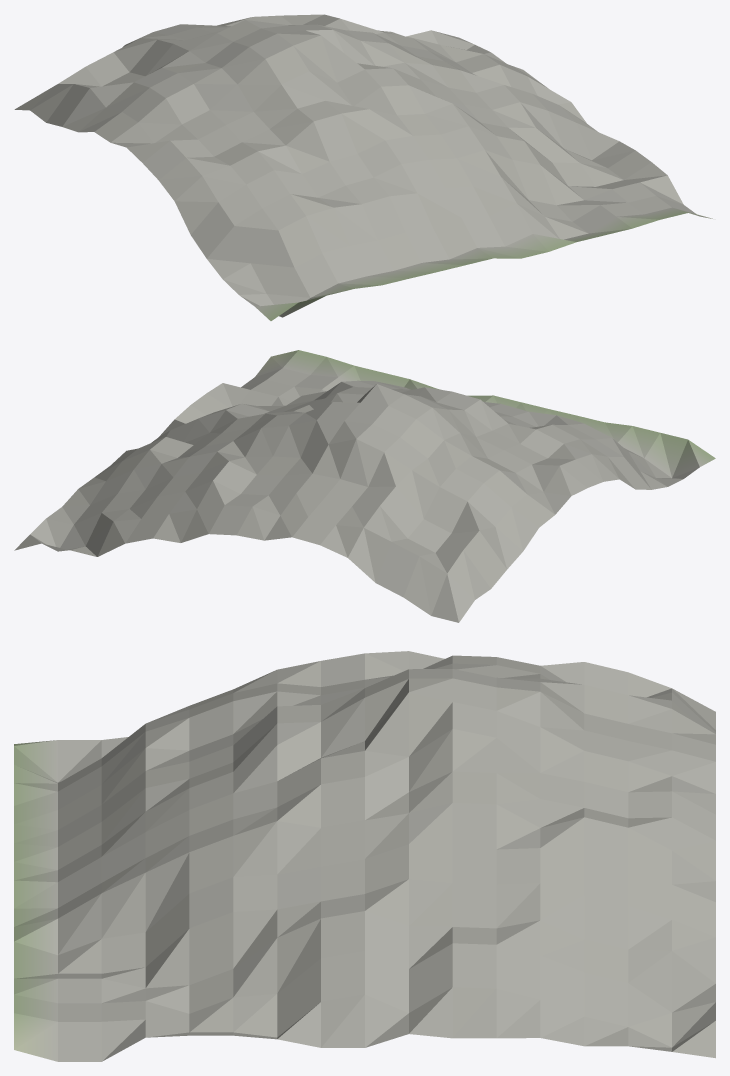
The picture shows the model from 3 angles, top to bottom: view 1: azimuth 30°, elevation 25°; view 2: azimuth 150°, elevation 25°; view 3: azimuth 270°, elevation 25°; orthographic projection. The views are drawn at different scales.
Bounding box in the file's own units: 32 × 10.41 × 32.
